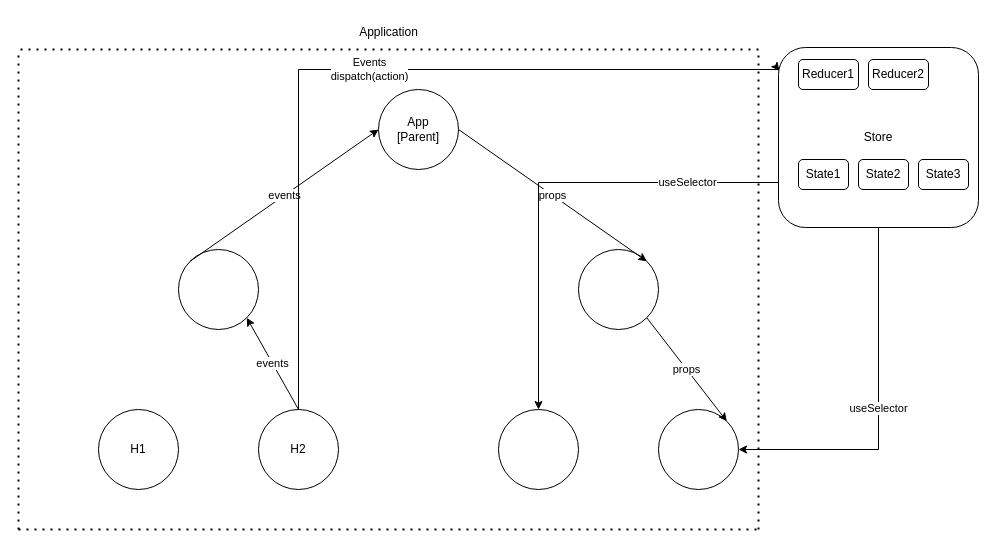
The diagram is 996 pixels wide and 548 high, and some of its shapes have lost their labels. The shapes that lost their labels are listed below. From the top down, each one's centre as x and y in pixels, then its label:
(x=218, y=289): Header [Child]
(x=618, y=289): Footer [Child]
(x=538, y=449): F1
(x=698, y=449): F2
